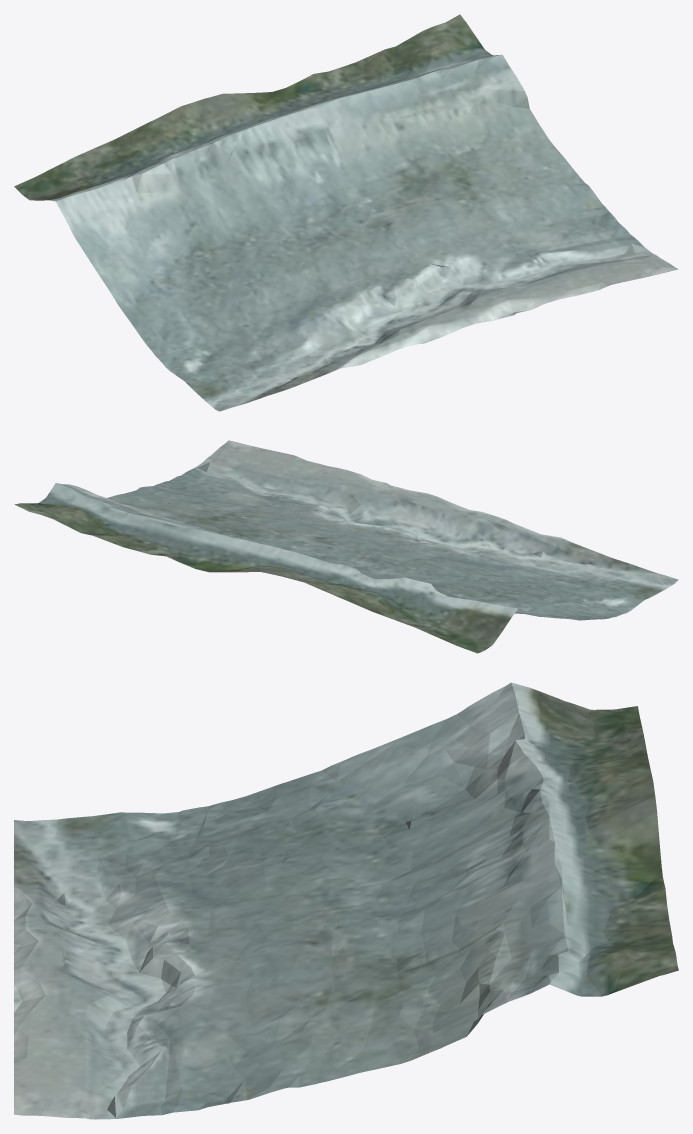
3 views of the same model, one above another, from view 1: azimuth 30°, elevation 25°; view 2: azimuth 150°, elevation 25°; view 3: azimuth 270°, elevation 25° (orthographic). The views are drawn at different scales.
Visible parts, largest first — view 1: Plane; view 2: Plane; view 3: Plane.
Part boxes in pixels (left/top/right/bottom): Plane: left=14, top=14, right=678, bottom=411; Plane: left=14, top=440, right=678, bottom=653; Plane: left=14, top=682, right=678, bottom=1119.
Size of the model in its own units: 0.5 by 0.1309 by 0.4125.
1 material, 1 textured.
